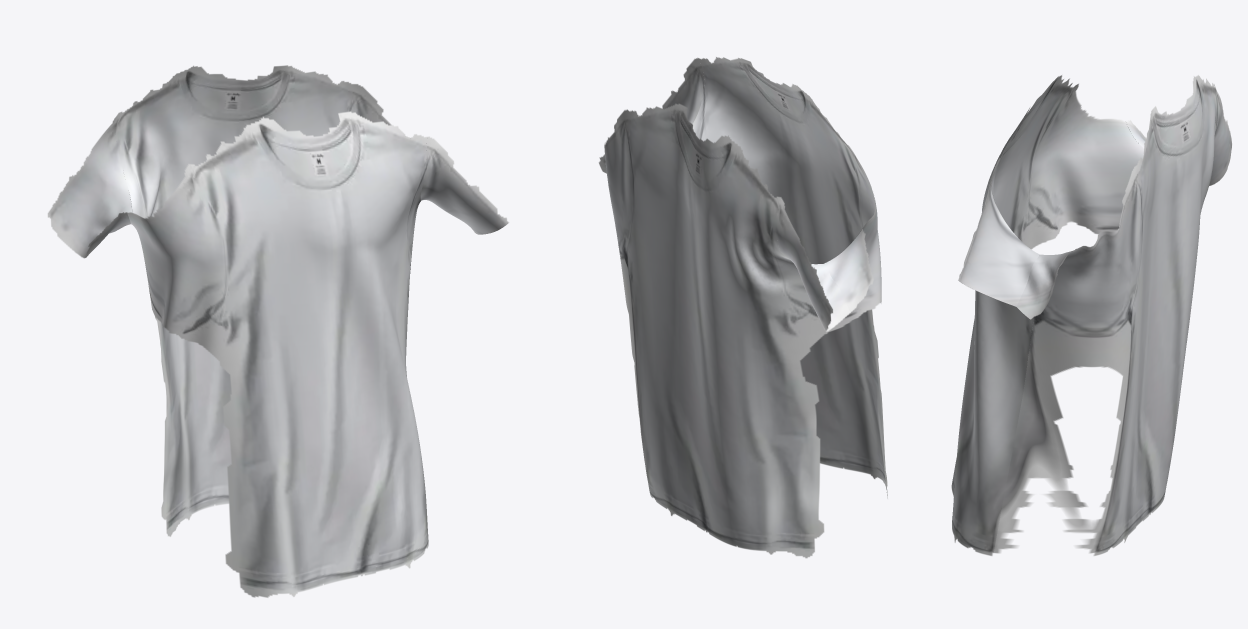
Rendered from prenda_fit_corregida.glb.
3 views of the same model, side by side, from view 1: azimuth 30°, elevation 25°; view 2: azimuth 150°, elevation 25°; view 3: azimuth 270°, elevation 25° (orthographic). The views are drawn at different scales.
Visible parts, largest first — view 1: fitted_garment; view 2: fitted_garment; view 3: fitted_garment.
Part boxes in pixels (left/top/right/bottom): fitted_garment: left=47, top=65, right=508, bottom=597; fitted_garment: left=598, top=57, right=887, bottom=558; fitted_garment: left=951, top=75, right=1231, bottom=555.
Size of the model in its own units: 0.5371 by 0.6763 by 0.3193.
Materials: 1 (1 with a texture image).
